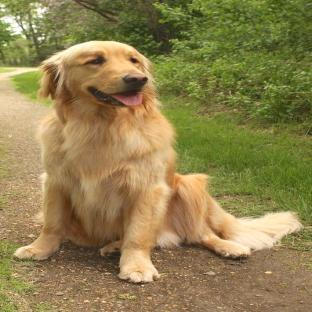Animal: (14, 41, 303, 283)
